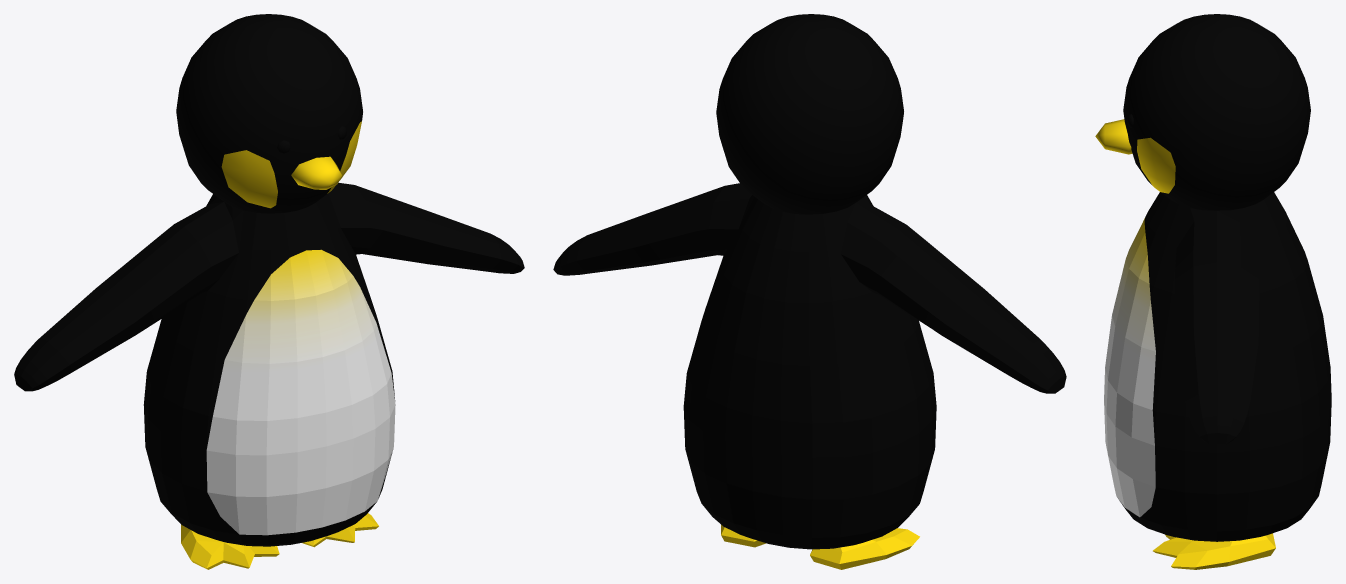
File: Daddy_UVtest.fbx
3 views of the same model, side by side, from view 1: azimuth 30°, elevation 25°; view 2: azimuth 150°, elevation 25°; view 3: azimuth 270°, elevation 25° (orthographic).
Parts seen in each view (by area): view 1: Object; view 2: Object; view 3: Object.
Part boxes in pixels (x1,y1,x2,y2): Object: (14,14,524,569); Object: (553,14,1066,569); Object: (1095,14,1331,569).
Bounding box in the file's own units: 404 × 396 × 168.
Materials: 1 (1 with a texture image).
